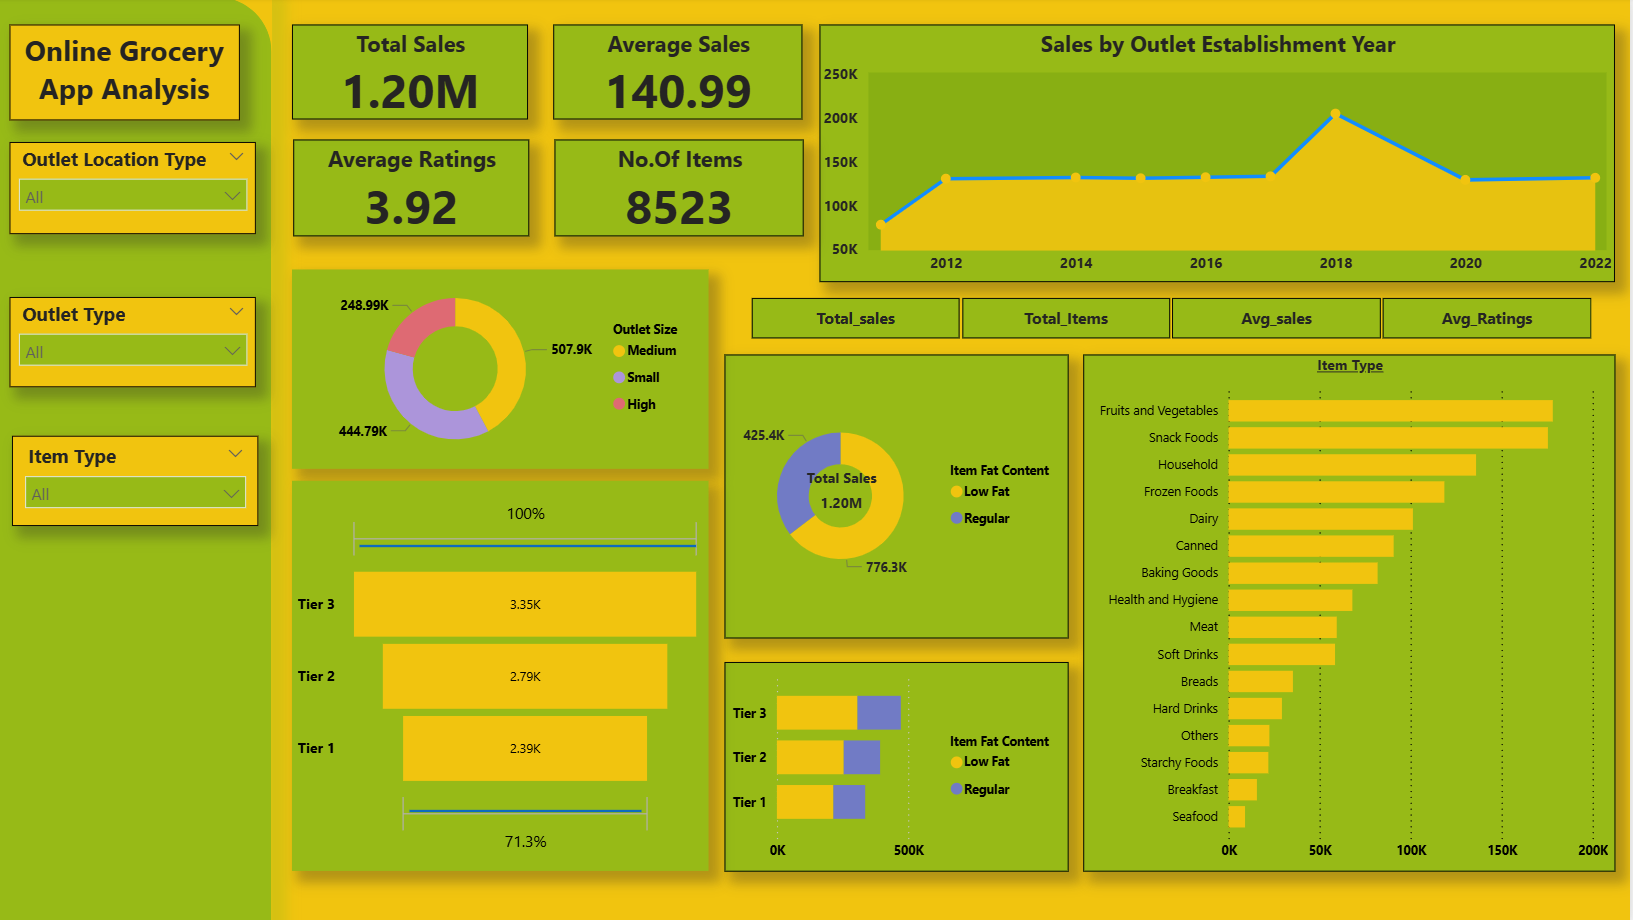

What the dashboard file says about the page in this screenshot:
{"tool":"powerbi","page":{"name":"Dashboard","canvas":[1390,790],"ordinal":0},"visuals":[{"type":"shape","box":[0,0,233.4,877.4],"z":0},{"type":"textbox","box":[11,23.5,195.8,81.5],"z":1000},{"type":"slicer","fields":{"Values":["BlinkIT Grocery Data.Item Type"]},"box":[12.5,372.9,209.9,76.8],"z":2000},{"type":"slicer","fields":{"Values":["BlinkIT Grocery Data.Outlet Type"]},"box":[11,255.4,209.9,76.8],"z":3000},{"type":"slicer","fields":{"Values":["BlinkIT Grocery Data.Outlet Location Type"]},"box":[11,123.8,209.9,78.3],"z":4000},{"type":"card","title":"Average Ratings","fields":{"Values":["Avg(BlinkIT Grocery Data.Rating)"]},"box":[252.5,121.2,200.5,82.2],"z":5000},{"type":"card","title":"Total Sales","fields":{"Values":["Sum(BlinkIT Grocery Data.Sales)"]},"box":[251,23.1,200.5,80.8],"z":6000},{"type":"card","title":"Average Sales","fields":{"Values":["Avg(BlinkIT Grocery Data.Sales)"]},"box":[473.2,23.1,212.1,80.8],"z":7000},{"type":"areaChart","title":" Sales by Outlet Establishment Year","fields":{"Category":["BlinkIT Grocery Data.Outlet Establishment Year"],"Y":["Sum(BlinkIT Grocery Data.Sales)"]},"box":[700.3,23.5,676.8,219.3],"z":8000},{"type":"card","title":"No.Of Items","fields":{"Values":["BlinkIT Grocery Data.Total_Items"]},"box":[474.7,121.2,212.1,82.2],"z":9000},{"type":"slicer","fields":{"Values":["Combined_Fliters.Fliter_names"]},"box":[618.9,252.2,758.3,42.3],"z":10000},{"type":"donutChart","title":"Total sales by Item Fat Content","fields":{"Y":["BlinkIT Grocery Data.Total_sales","BlinkIT Grocery Data.Total_sales"],"Category":["BlinkIT Grocery Data.Item Fat Content"]},"box":[618.9,303.9,293,241.3],"z":11000},{"type":"card","title":"Total Sales","fields":{"Values":["BlinkIT Grocery Data.Total sales"]},"box":[673.7,401.1,90.9,48.6],"z":12000},{"type":"barChart","fields":{"Y":["Sum(BlinkIT Grocery Data.Sales)"],"Series":["BlinkIT Grocery Data.Item Fat Content"],"Category":["BlinkIT Grocery Data.Outlet Location Type"]},"box":[618.9,565.6,293,178.6],"z":13000},{"type":"barChart","title":" Item Type","fields":{"Y":["BlinkIT Grocery Data.Total_sales"],"Category":["BlinkIT Grocery Data.Item Type"]},"box":[924.4,303.9,452.8,440.3],"z":14000},{"type":"donutChart","fields":{"Category":["BlinkIT Grocery Data.Outlet Size"],"Y":["BlinkIT Grocery Data.Total_sales"]},"box":[250.7,231.9,354.1,169.2],"z":15000},{"type":"funnel","fields":{"Category":["BlinkIT Grocery Data.Outlet Location Type"],"Y":["CountNonNull(BlinkIT Grocery Data.Item Identifier)"]},"box":[250.7,412.1,354.1,332.2],"z":16000},{"type":"shape","box":[351,675.3,197.4,34.5],"z":17000},{"type":"shape","box":[308.6,449.7,286.7,34.5],"z":18000}]}

Visuals, with their boxes in screenshot pixels (x1, y1, x2, y2), scaled from the page's 1390x790 canvas onto the 1633x920 screenshot:
shape: rect(0, 0, 274, 919)
textbox: rect(13, 27, 243, 122)
slicer - BlinkIT Grocery Data.Item Type: rect(15, 434, 261, 524)
slicer - BlinkIT Grocery Data.Outlet Type: rect(13, 297, 260, 387)
slicer - BlinkIT Grocery Data.Outlet Location Type: rect(13, 144, 260, 235)
"Average Ratings" card: rect(297, 141, 532, 237)
"Total Sales" card: rect(295, 27, 530, 121)
"Average Sales" card: rect(556, 27, 805, 121)
" Sales by Outlet Establishment Year" areaChart: rect(823, 27, 1618, 283)
"No.Of Items" card: rect(558, 141, 807, 237)
slicer - Combined_Fliters.Fliter_names: rect(727, 294, 1618, 343)
"Total sales by Item Fat Content" donutChart: rect(727, 354, 1071, 635)
"Total Sales" card: rect(791, 467, 898, 524)
barChart - Sum(BlinkIT Grocery Data.Sales) x BlinkIT Grocery Data.Item Fat Content: rect(727, 659, 1071, 867)
" Item Type" barChart: rect(1086, 354, 1618, 867)
donutChart - BlinkIT Grocery Data.Outlet Size x BlinkIT Grocery Data.Total_sales: rect(295, 270, 711, 467)
funnel - BlinkIT Grocery Data.Outlet Location Type x CountNonNull(BlinkIT Grocery Data.Item Identifier): rect(295, 480, 711, 867)
shape: rect(412, 786, 644, 827)
shape: rect(363, 524, 699, 564)
